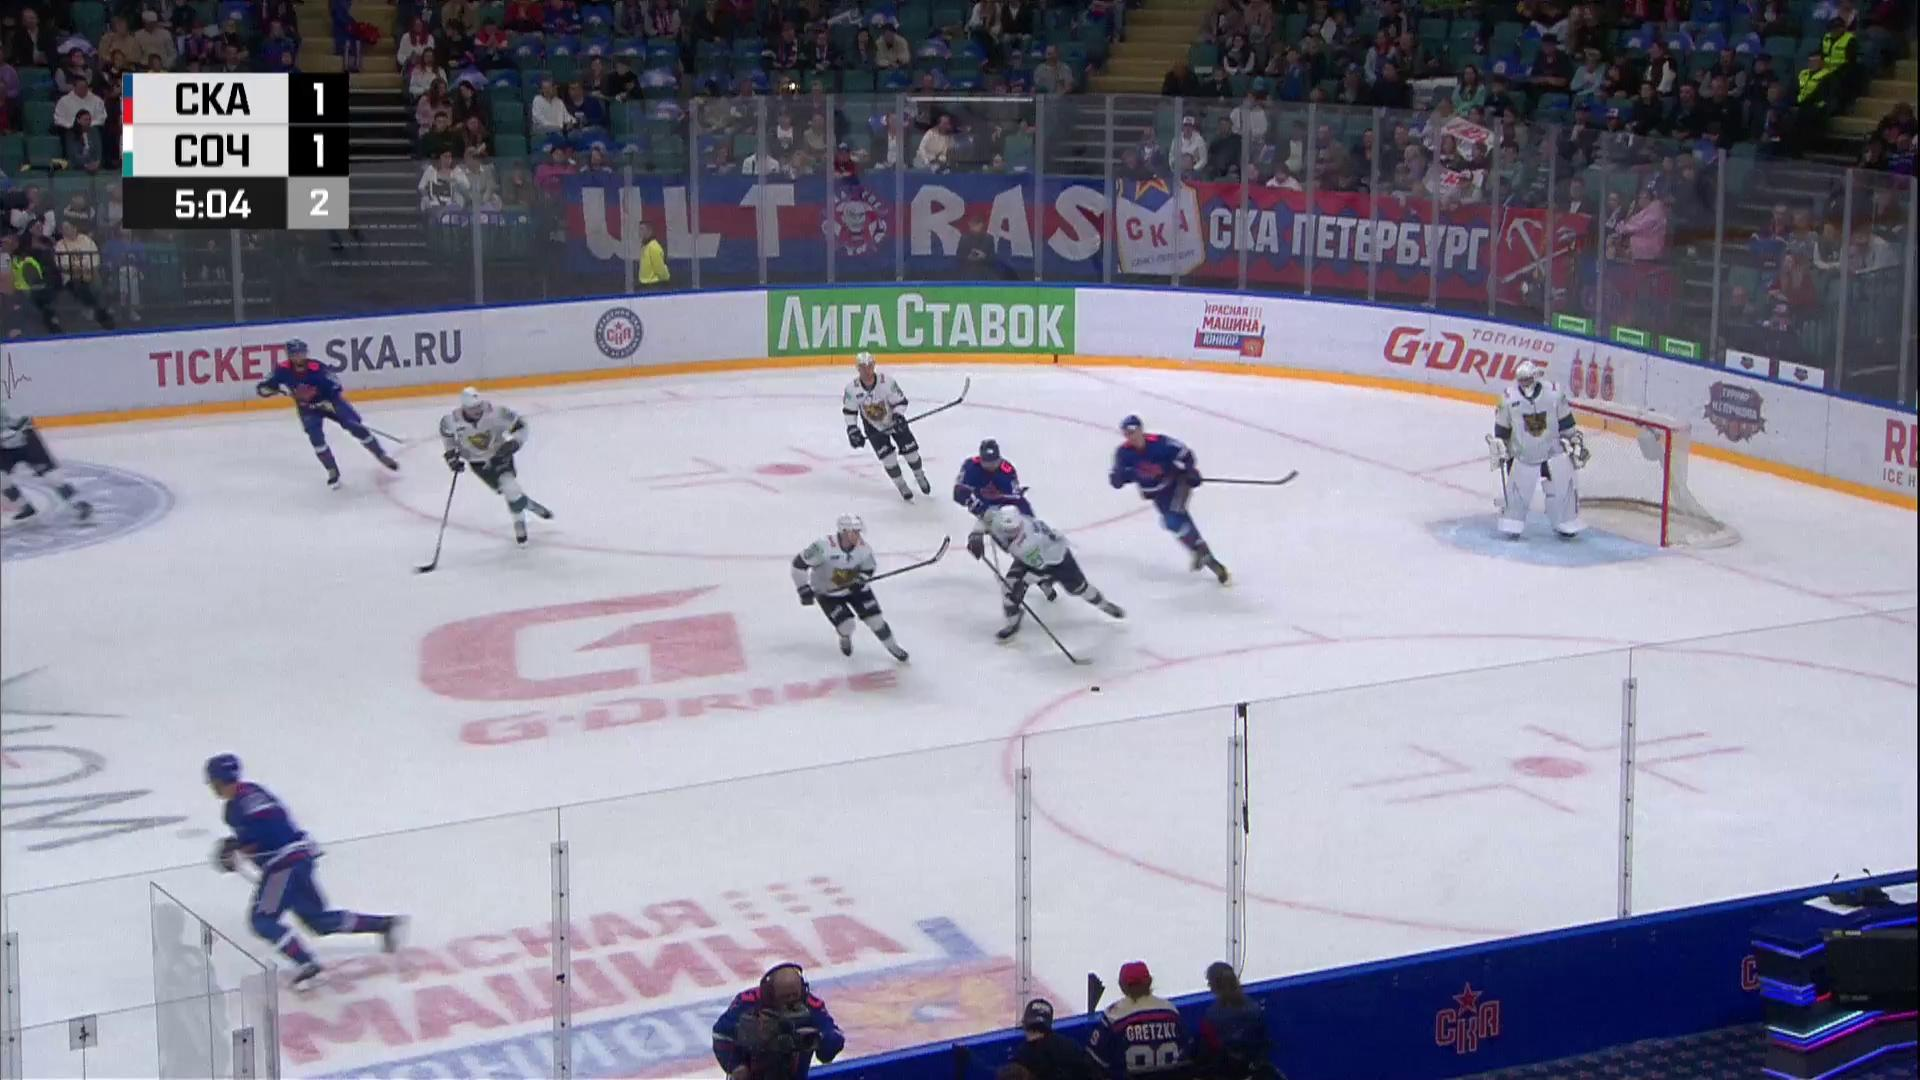ball: (1089, 684, 1102, 694)
